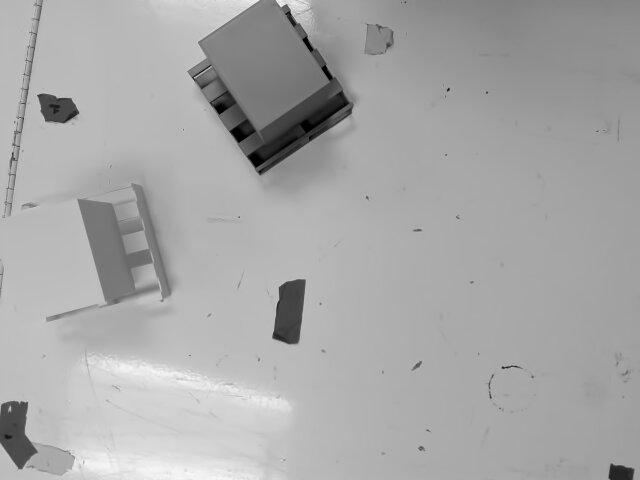grey pallet: (171, 0, 375, 183)
white pallet: (0, 174, 193, 332)
